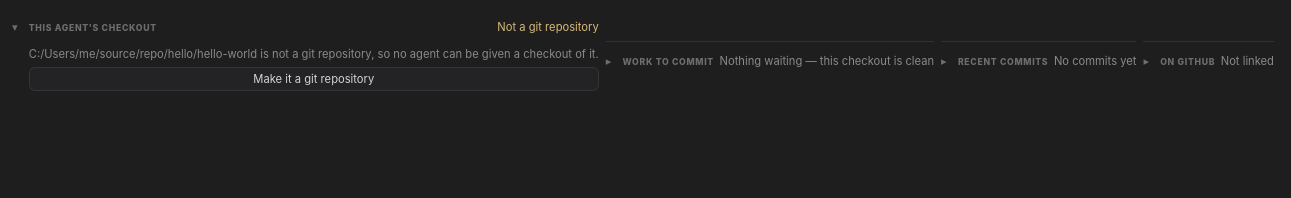
it: the git panel on a Solution › syncs the checkout being looked at
The image size is (1291, 198).
Click the button "▸ Work to commit Nothing waiting — this checkout is clean".
click(770, 61)  # box [606,49,934,73]
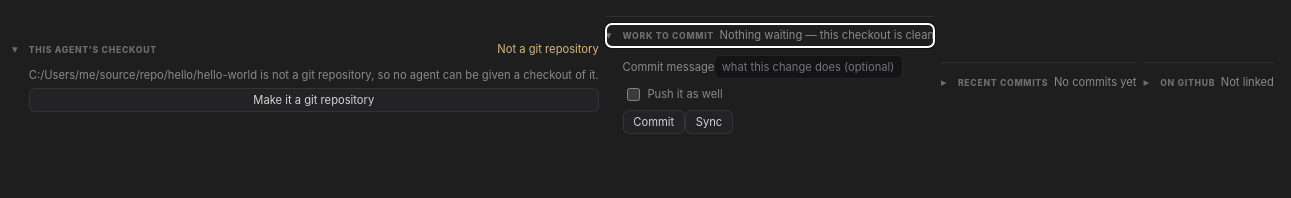
Click the button with aria-label "Sync hello-world".
click(709, 122)  # box [685,110,733,134]
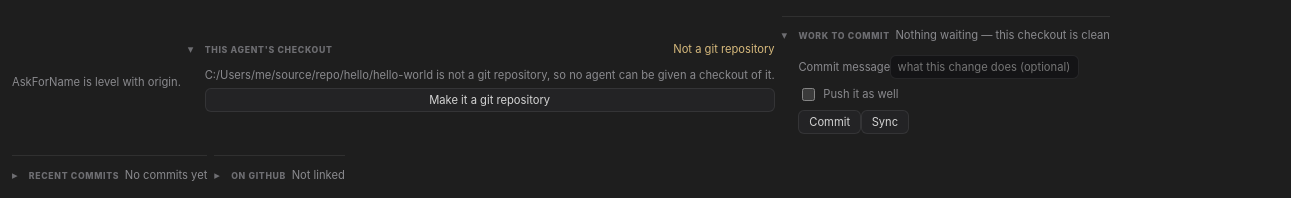
expect the text "AskForName is level with origin." is shown: met, box [12,75,181,89]
